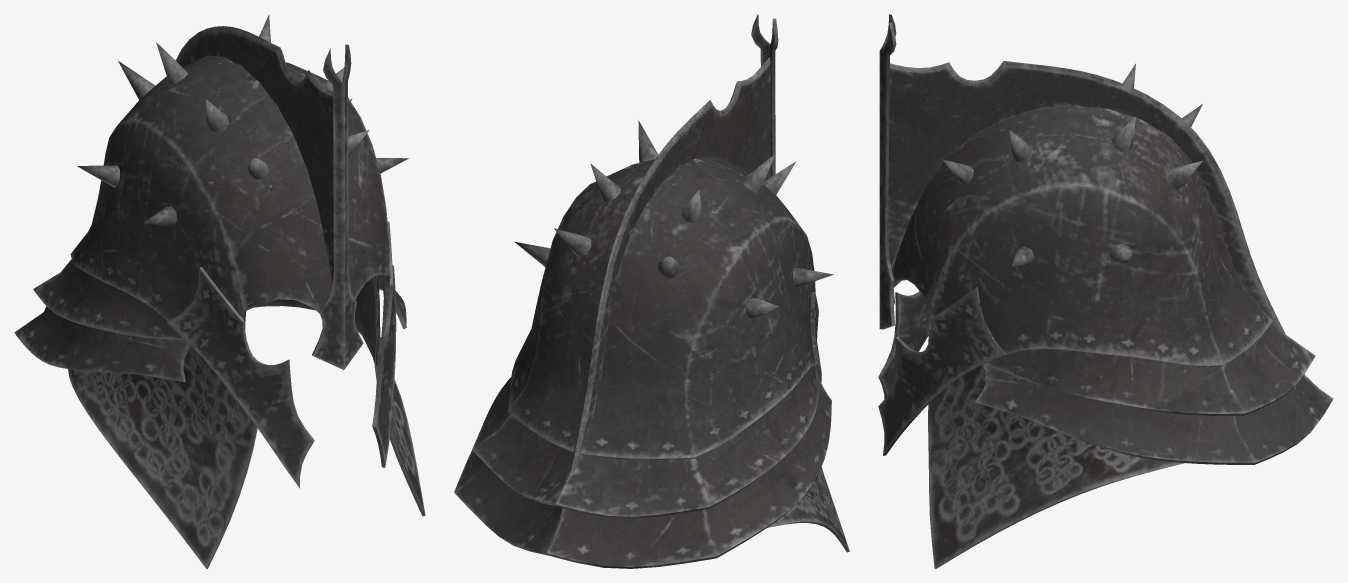
File: sk_uruk_mordor_helmet_elite_c1.fbx
3 views of the same model, side by side, from view 1: azimuth 30°, elevation 25°; view 2: azimuth 150°, elevation 25°; view 3: azimuth 270°, elevation 25° (orthographic). The views are drawn at different scales.
Visible parts, largest first — view 1: sk_uruk_mordor_helmet_elite_c1; view 2: sk_uruk_mordor_helmet_elite_c1; view 3: sk_uruk_mordor_helmet_elite_c1.
Boxes of the visible parts, bbox=[...] form: sk_uruk_mordor_helmet_elite_c1: bbox=[14, 15, 425, 568]; sk_uruk_mordor_helmet_elite_c1: bbox=[454, 14, 849, 568]; sk_uruk_mordor_helmet_elite_c1: bbox=[878, 14, 1333, 568].
Bounding box in the file's own units: 0.2888 × 0.3611 × 0.4371.
Materials: 1 (1 with a texture image).
